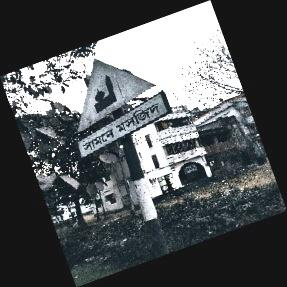Mosque in front: (74, 58, 172, 164)
